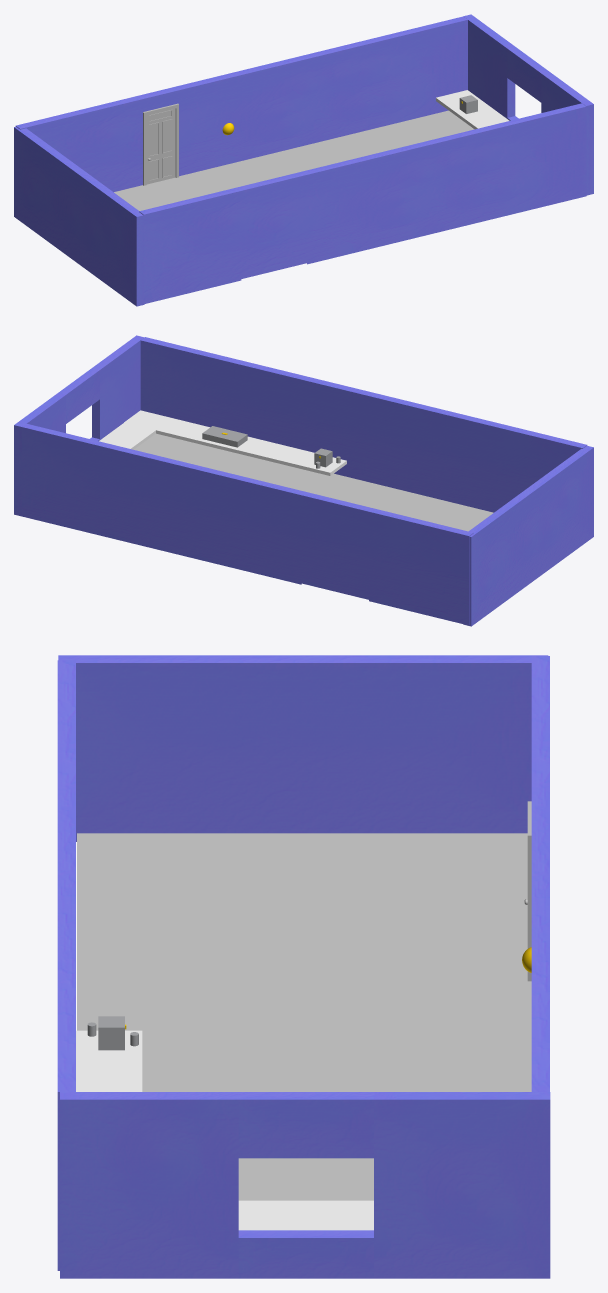
File: Room_Kitchen.fbx
3 views of the same model, one above another, from view 1: azimuth 30°, elevation 25°; view 2: azimuth 150°, elevation 25°; view 3: azimuth 270°, elevation 25° (orthographic). The views are drawn at different scales.
Visible parts, largest first — view 1: M_Badroom_Tembok3, M_Badroom_Tembok3__1_, M_Badroom_Tembok2, M_Badroom_LantaiDapur, M_Badroom_Tembok4, M_Badroom_PintuKamar__2_, Cabinet_3; view 2: M_Badroom_Tembok3__1_, M_Badroom_Tembok3, M_Badroom_Tembok2, M_Badroom_LantaiDapur, M_Badroom_Tembok4, Cabinet, Cabinet_3, Stove; view 3: M_Badroom_LantaiDapur, M_Badroom_Tembok4, M_Badroom_Tembok2, M_Badroom_Tembok3, M_Badroom_Tembok3__1_, Cabinet_3, Cabinet, Coffee, M_Badroom_PintuKamar__2_.
Part boxes in pixels (bbox=[...]): M_Badroom_Tembok3: bbox=[139, 103, 586, 303]; M_Badroom_Tembok3__1_: bbox=[15, 16, 467, 192]; M_Badroom_Tembok2: bbox=[14, 126, 144, 306]; M_Badroom_LantaiDapur: bbox=[114, 110, 474, 210]; M_Badroom_Tembok4: bbox=[463, 14, 593, 195]; M_Badroom_PintuKamar__2_: bbox=[143, 103, 178, 185]; Cabinet_3: bbox=[436, 90, 509, 129]; M_Badroom_Tembok3__1_: bbox=[22, 424, 473, 625]; M_Badroom_Tembok3: bbox=[140, 337, 587, 512]; M_Badroom_Tembok2: bbox=[463, 445, 593, 626]; M_Badroom_LantaiDapur: bbox=[134, 433, 493, 531]; M_Badroom_Tembok4: bbox=[14, 335, 144, 516]; Cabinet: bbox=[124, 410, 346, 475]; Cabinet_3: bbox=[99, 410, 171, 449]; Stove: bbox=[202, 426, 247, 447]; M_Badroom_LantaiDapur: bbox=[77, 833, 531, 1200]; M_Badroom_Tembok4: bbox=[60, 1092, 550, 1278]; M_Badroom_Tembok2: bbox=[58, 655, 548, 841]; M_Badroom_Tembok3: bbox=[57, 660, 75, 1270]; M_Badroom_Tembok3__1_: bbox=[531, 656, 549, 1091]; Cabinet_3: bbox=[238, 1200, 373, 1230]; Cabinet: bbox=[76, 1030, 142, 1091]; Coffee: bbox=[98, 1016, 124, 1050]; M_Badroom_PintuKamar__2_: bbox=[524, 801, 531, 981].
Size of the model in its own units: 1154 by 220 by 539.
